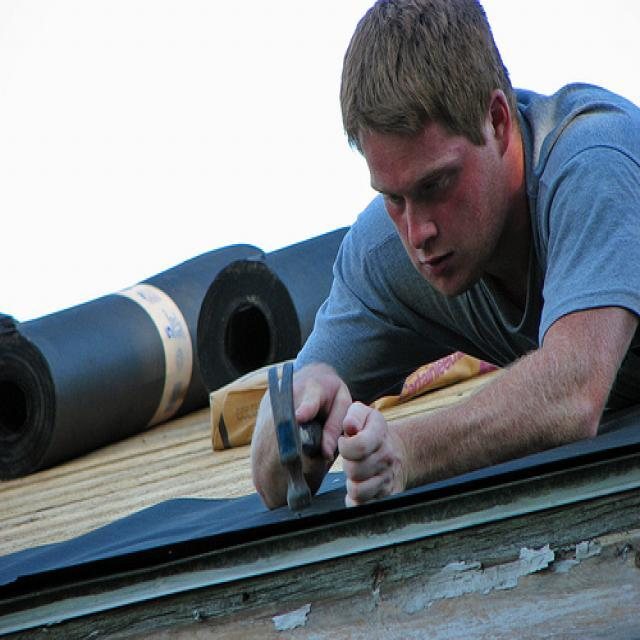hammer: (256, 356, 356, 518)
